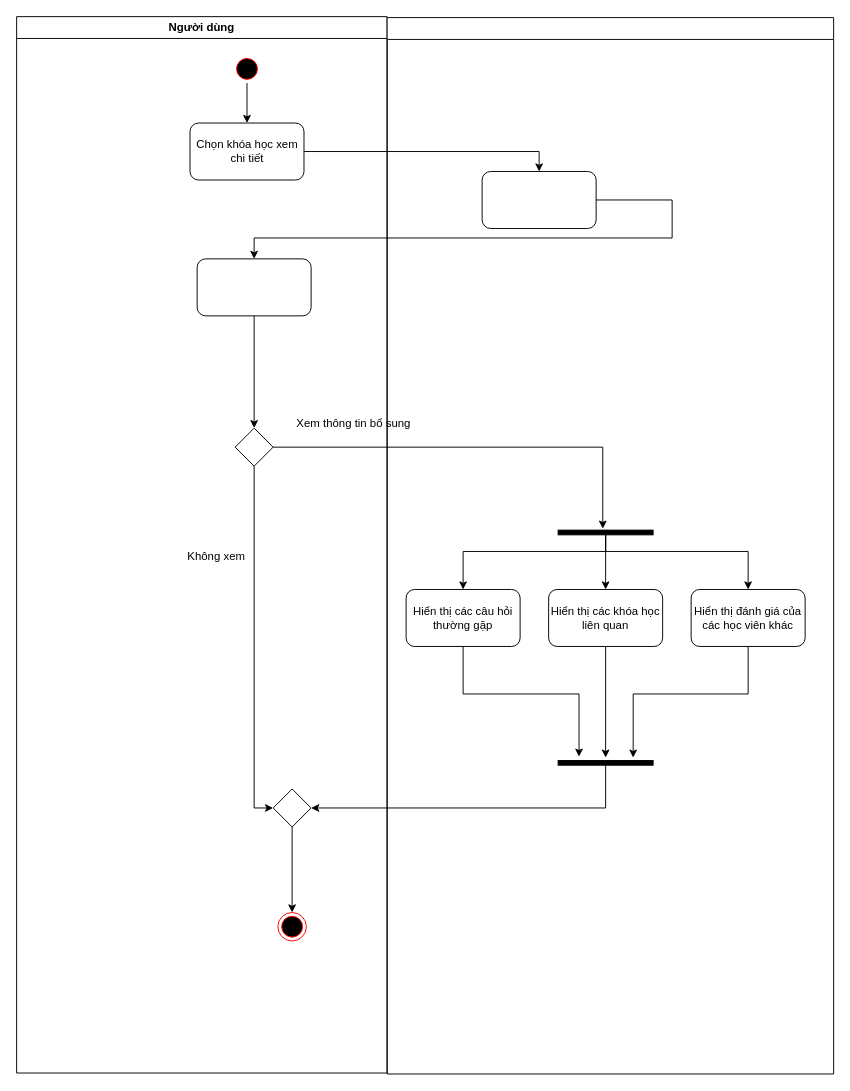
Some shapes in this 850 by 1091 pixel diagram are drawn without their labels. The shapes that lost their labels are listed below. From the top down, each one's box as (x1, y1, x2, y2) in pixels, then its label:
(481, 171, 596, 228): Hiển thị thông tin chi tiết khóa học
(196, 258, 311, 316): Xem chi tiết khoá học
(386, 17, 834, 1074): Hệ thống
